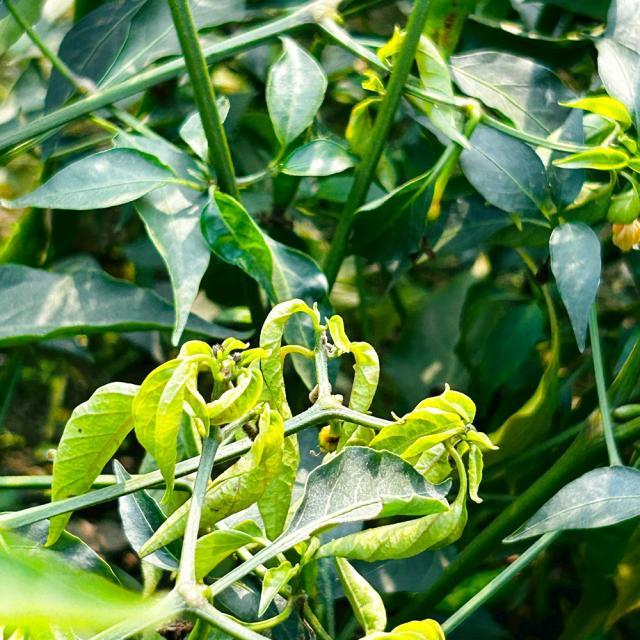Chilli_Leaf_Curl: (1, 0, 638, 638), (2, 296, 497, 638), (253, 443, 452, 567), (130, 336, 266, 510), (44, 380, 142, 547), (368, 382, 498, 504), (0, 144, 206, 211), (501, 464, 639, 546), (457, 121, 552, 219), (263, 34, 328, 148), (547, 220, 602, 354)
